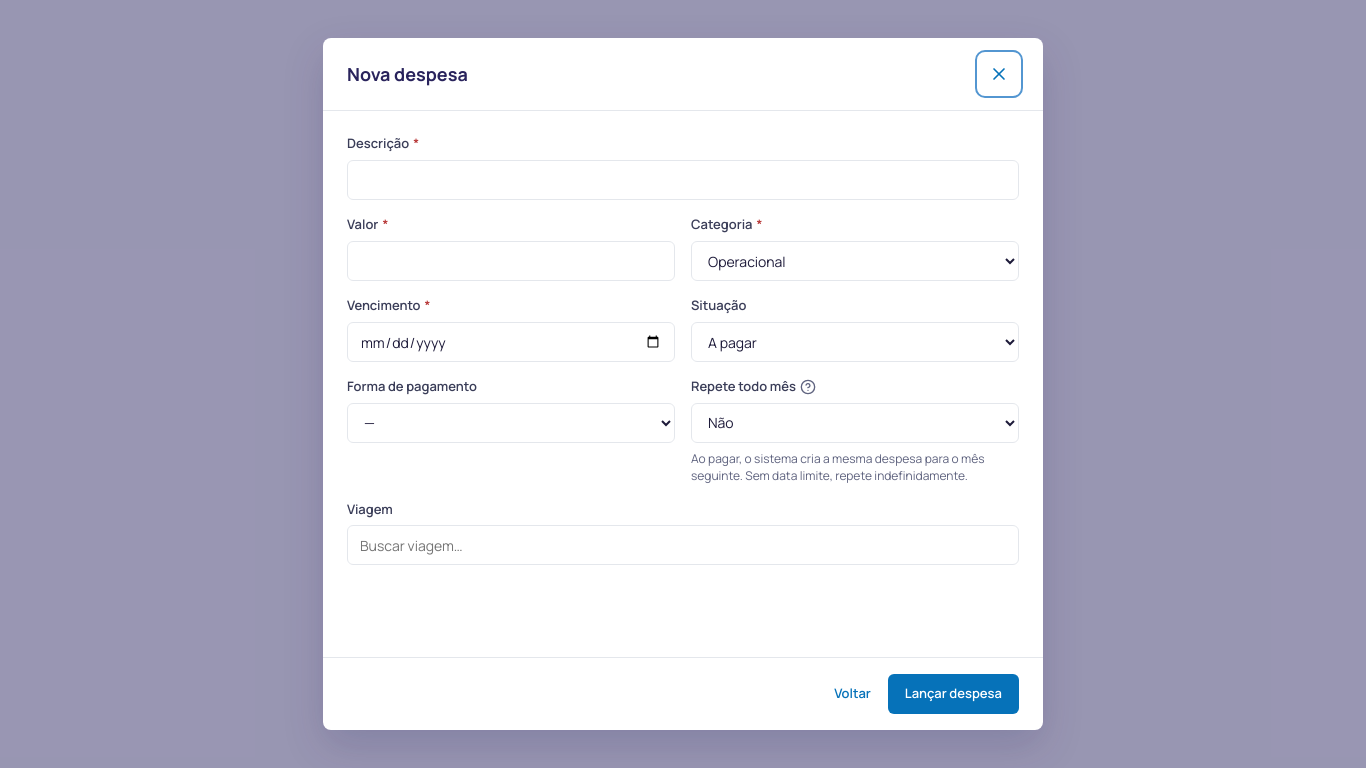
Scenario: repete todo mês revela o campo Repetir até
Expected: the field labelled "Repetir até" is not shown
Select "Sim" in the dropdown labelled "Repete todo mês" at (855, 423), box [691,403,1019,443]
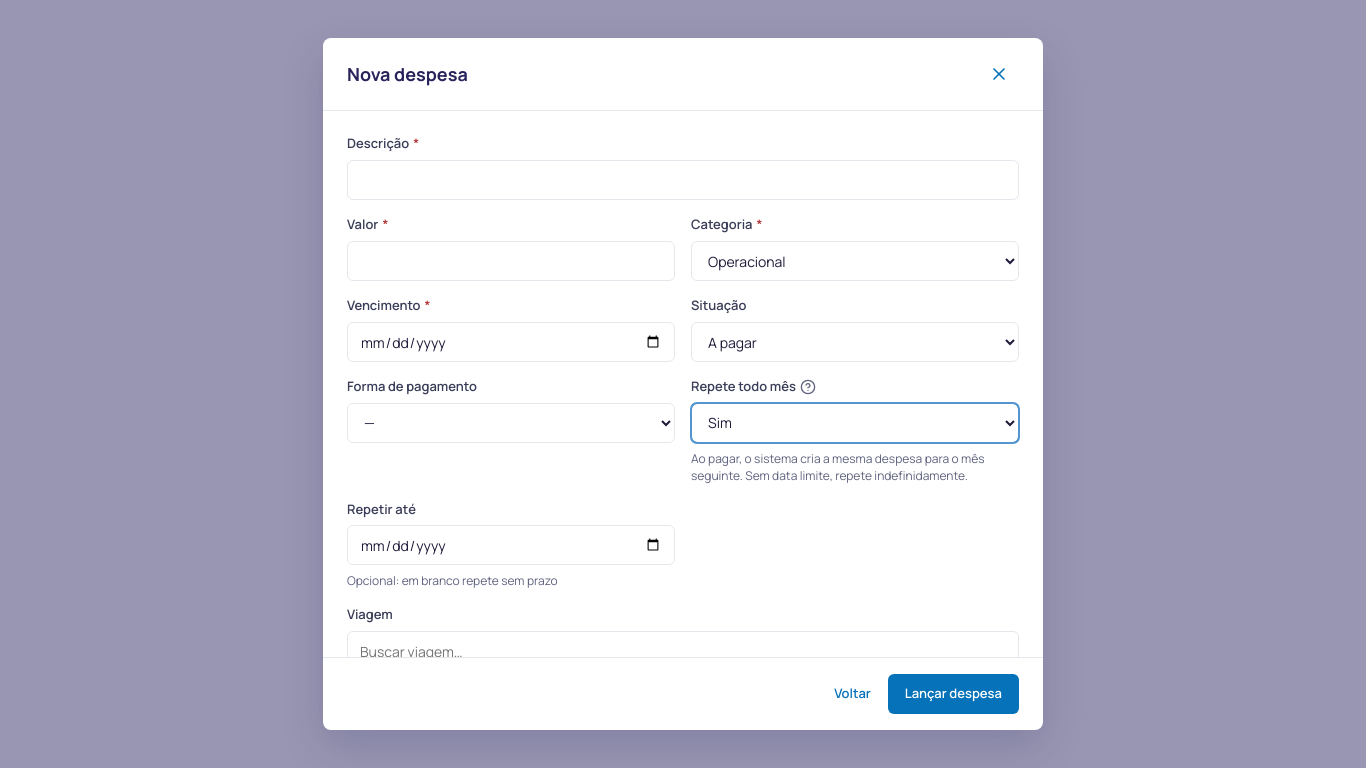
Now the date field labelled "Repetir até" is shown, box [347,526,675,566]
